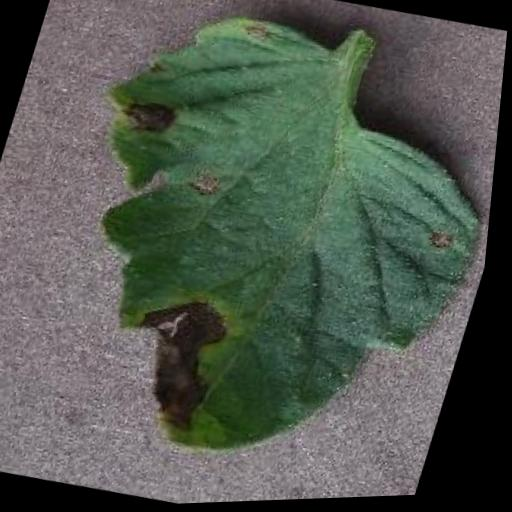Early Blight: (14, 0, 512, 505)
